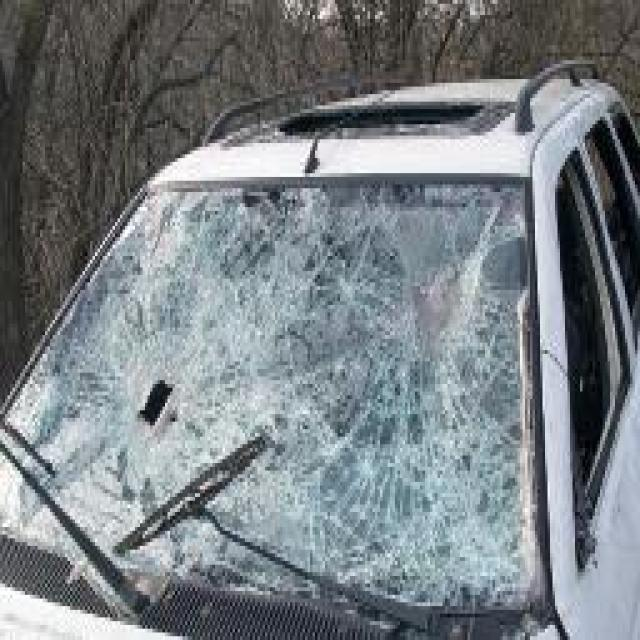Windshield: (0, 184, 537, 604)
